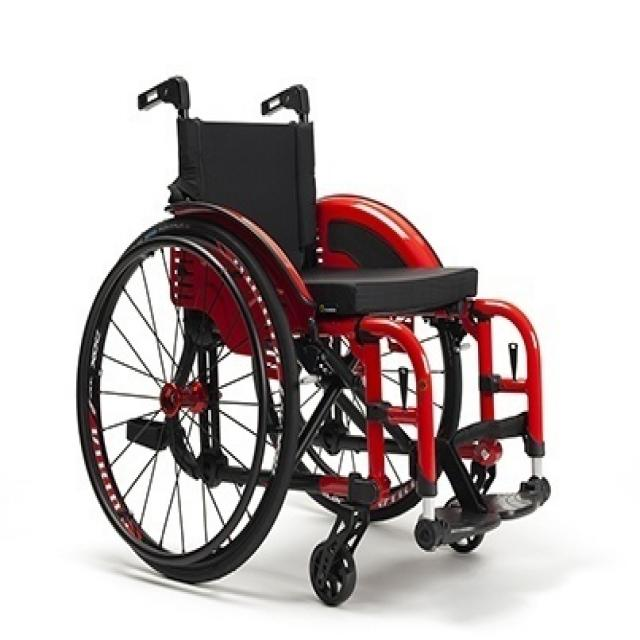wheelchair: (64, 63, 564, 613)
